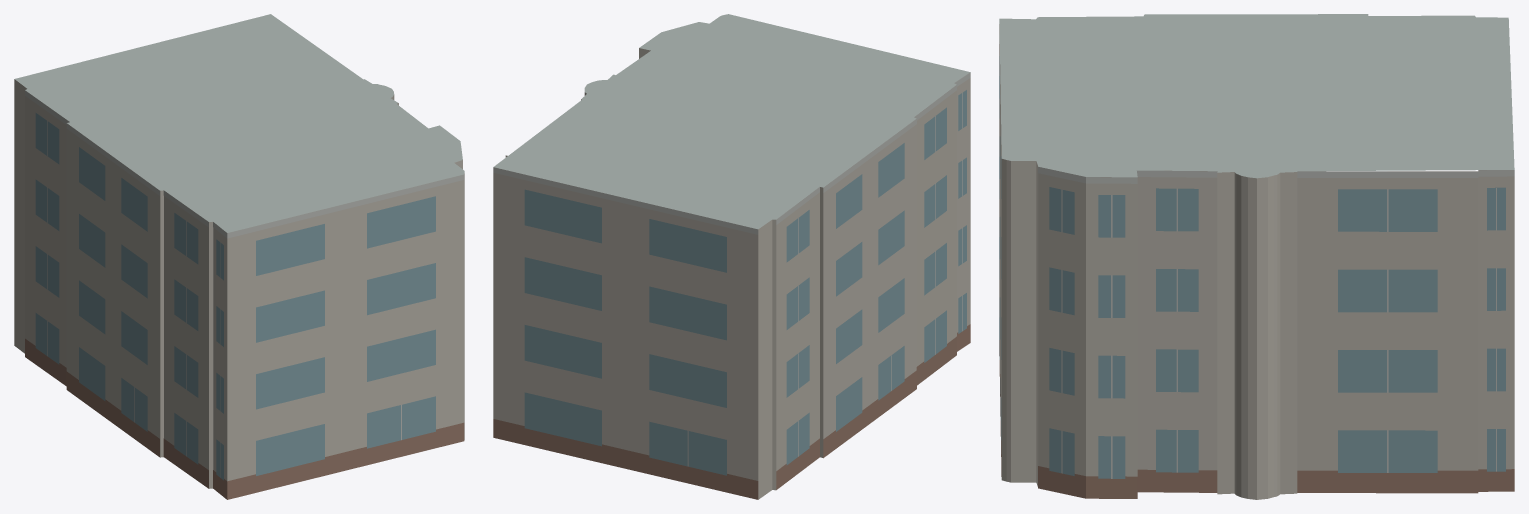
The model's file is survey-upis-32837447.glb.
The picture shows the model from 3 angles, left to right: view 1: azimuth 30°, elevation 25°; view 2: azimuth 150°, elevation 25°; view 3: azimuth 270°, elevation 25°; orthographic projection. The views are drawn at different scales.
Parts seen in each view (by area): view 1: survey-upis-32837447.tmp; view 2: survey-upis-32837447.tmp; view 3: survey-upis-32837447.tmp.
Part boxes in pixels (bbox=[...]): survey-upis-32837447.tmp: bbox=[14, 14, 464, 499]; survey-upis-32837447.tmp: bbox=[493, 14, 970, 499]; survey-upis-32837447.tmp: bbox=[999, 14, 1514, 499].
Size of the model in its own units: 13.09 by 11.95 by 17.36.
